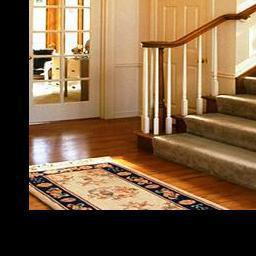Escaleras: (133, 56, 256, 171)
Puerta: (29, 0, 109, 123), (156, 0, 206, 107)
